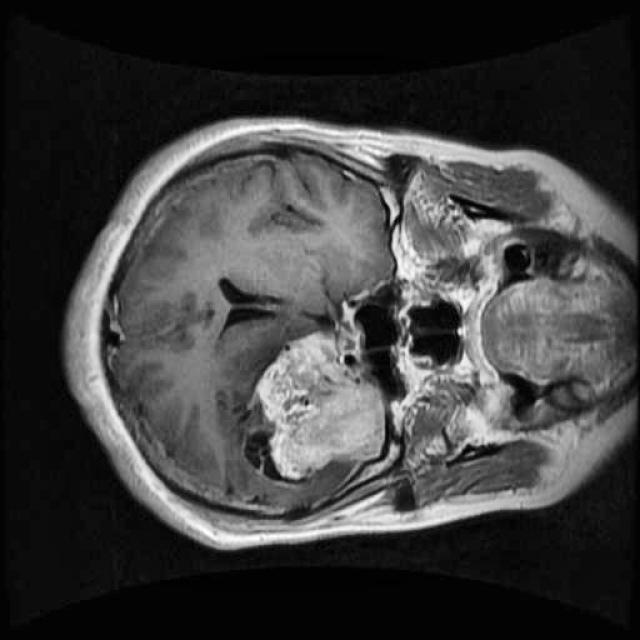Tumor: (231, 316, 408, 498)
